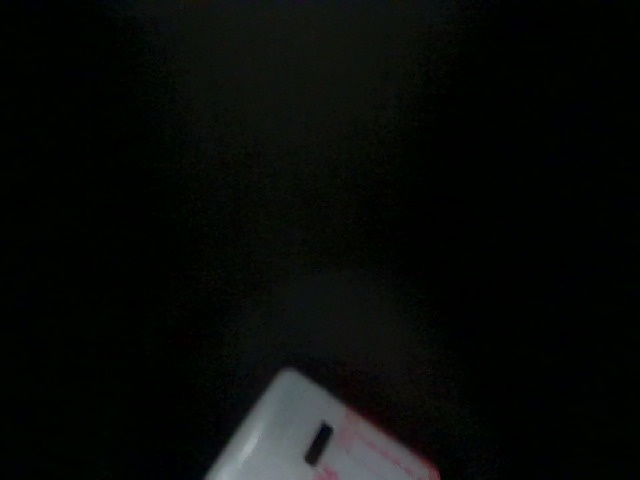CYLJ: (428, 281, 537, 395)
